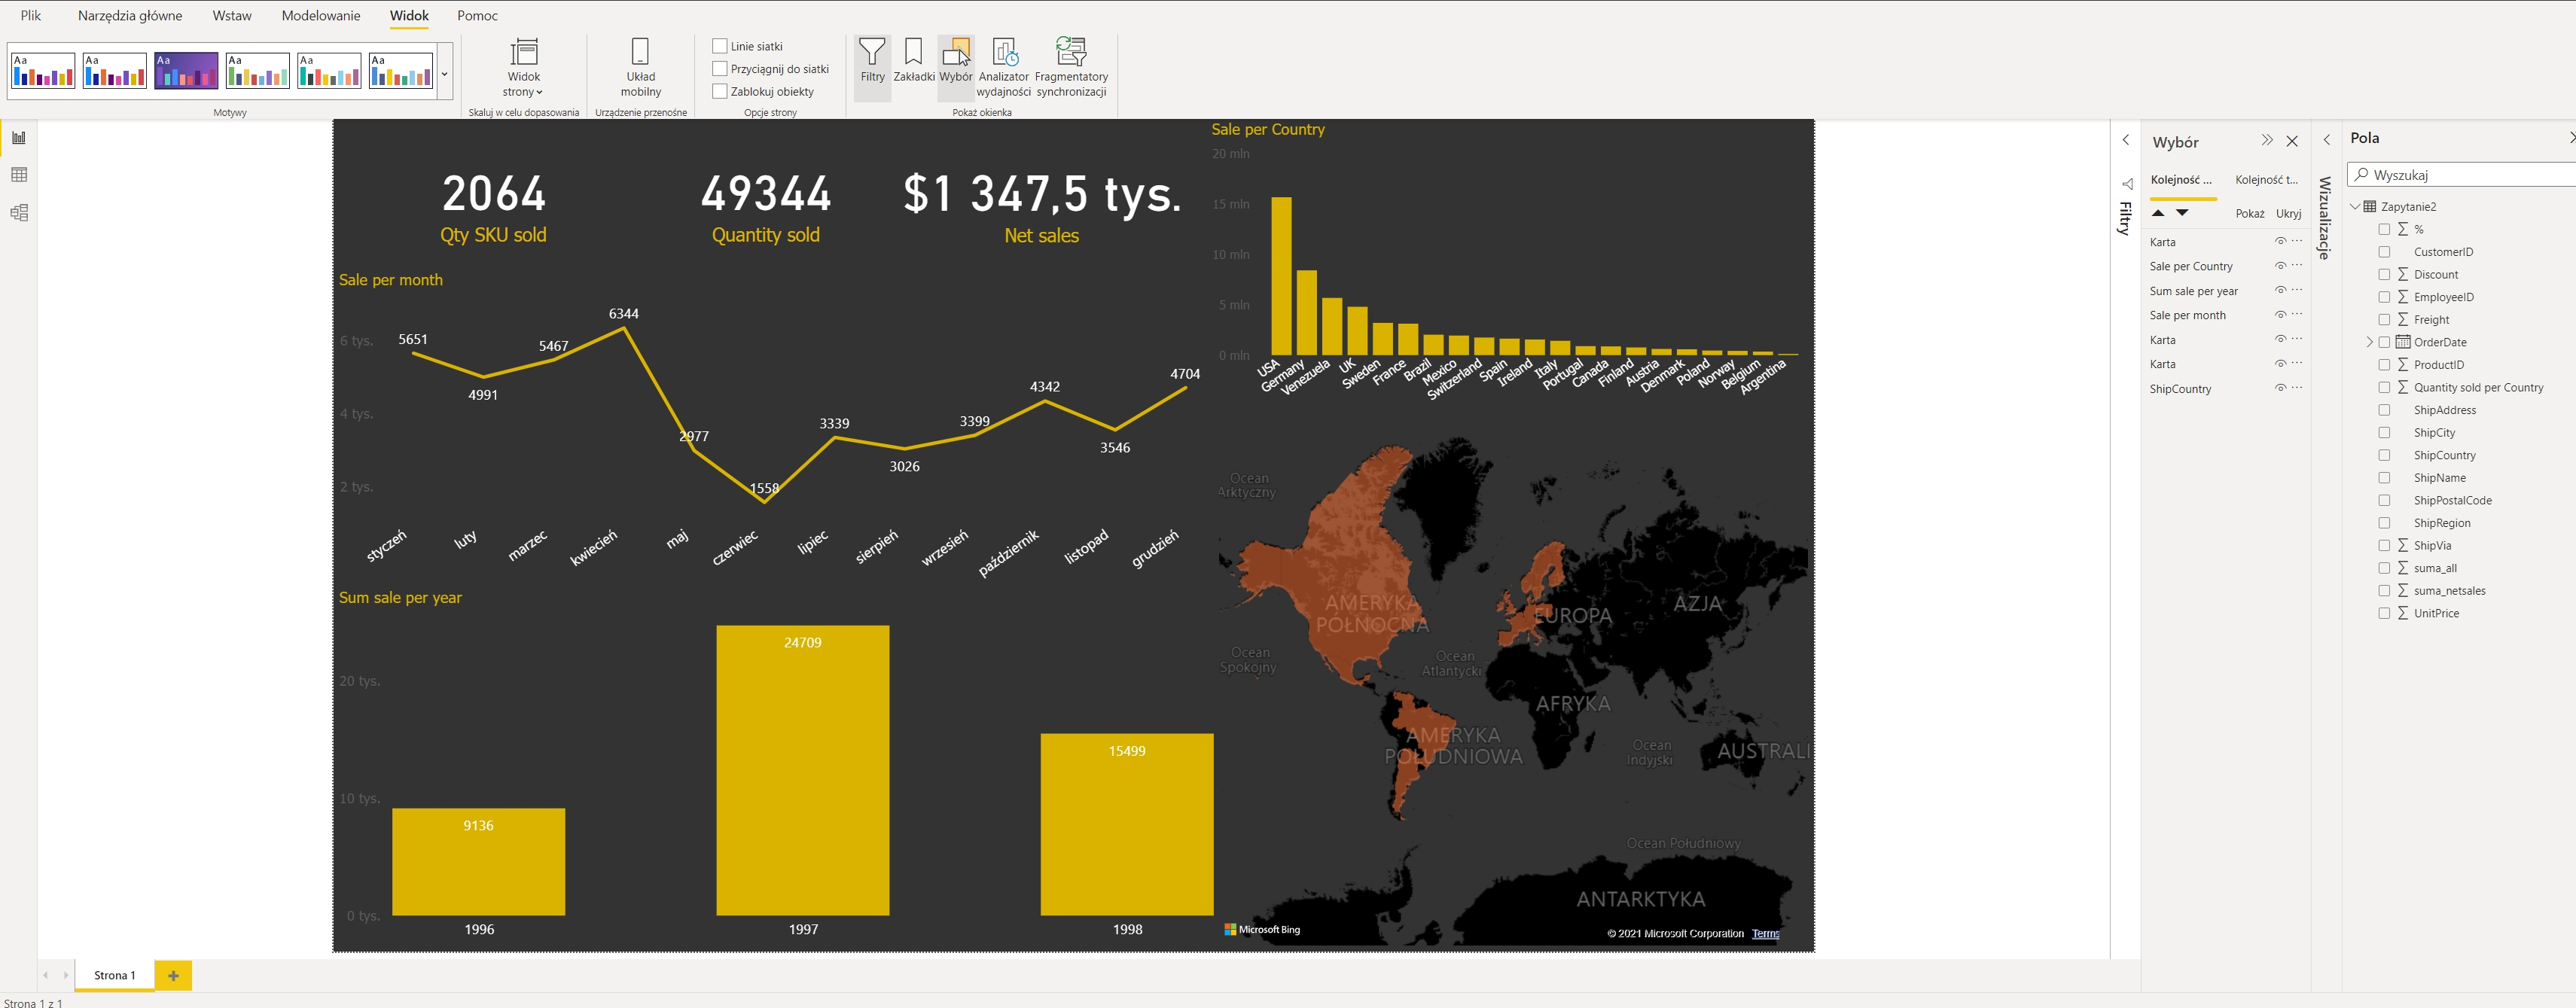

Layout of this report page (visuals, bound fields, positions):
{"tool":"powerbi","page":{"name":"Strona 1","canvas":[1280,720],"ordinal":0},"visuals":[{"type":"filledMap","fields":{"Category":["Zapytanie2.ShipCountry"]},"box":[759.9,260.3,519.9,459.7],"z":0},{"type":"card","fields":{"Values":["Sum(Zapytanie2.suma_all)"]},"box":[276.6,0,194.4,138.3],"z":1000},{"type":"card","fields":{"Values":["CountNonNull(Zapytanie2.ProductID)"]},"box":[0,0,276.6,138.3],"z":3000},{"type":"lineChart","title":"Sale per month","fields":{"Category":["Zapytanie2.OrderDate.Odmiana.Hierarchia dat.Miesiąc","Zapytanie2.OrderDate.Odmiana.Hierarchia dat.Dzień"],"Y":["Sum(Zapytanie2.suma_all)"]},"box":[0,130.2,759.9,275],"z":4000},{"type":"columnChart","title":"Sum sale per year","fields":{"Category":["Zapytanie2.OrderDate.Odmiana.Hierarchia dat.Rok","Zapytanie2.OrderDate.Odmiana.Hierarchia dat.Kwartał","Zapytanie2.OrderDate.Odmiana.Hierarchia dat.Miesiąc","Zapytanie2.OrderDate.Odmiana.Hierarchia dat.Dzień"],"Y":["Sum(Zapytanie2.suma_all)"]},"box":[0,405.2,759.9,314.8],"z":4500},{"type":"clusteredColumnChart","title":"Sale per Country","fields":{"Category":["Zapytanie2.ShipCountry"],"Y":["Sum(Zapytanie2.Quantity sold per Country)"]},"box":[759.9,0,519.9,260.3],"z":5000},{"type":"card","fields":{"Values":["Sum(Zapytanie2.suma_netsales)"]},"box":[464.5,0,295.3,138.3],"z":6000}]}

Visuals, with their boxes on the page's 1280x720 design canvas (x1, y1, x2, y2). These are canvas units, not pixel positions in the 2576x1008 screenshot, which may show the page scaled, cropped or inside an application window:
filledMap - Zapytanie2.ShipCountry: region(760, 260, 1280, 720)
card - Sum(Zapytanie2.suma_all): region(277, 0, 471, 138)
card - CountNonNull(Zapytanie2.ProductID): region(0, 0, 277, 138)
"Sale per month" lineChart: region(0, 130, 760, 405)
"Sum sale per year" columnChart: region(0, 405, 760, 720)
"Sale per Country" clusteredColumnChart: region(760, 0, 1280, 260)
card - Sum(Zapytanie2.suma_netsales): region(464, 0, 760, 138)
